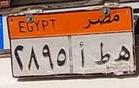2: (12, 42, 26, 72)
5: (55, 48, 67, 67)
8: (26, 45, 41, 71)
9: (41, 44, 54, 71)
Taa: (91, 42, 111, 67)
alif: (78, 41, 86, 71)
haa: (114, 44, 131, 65)
